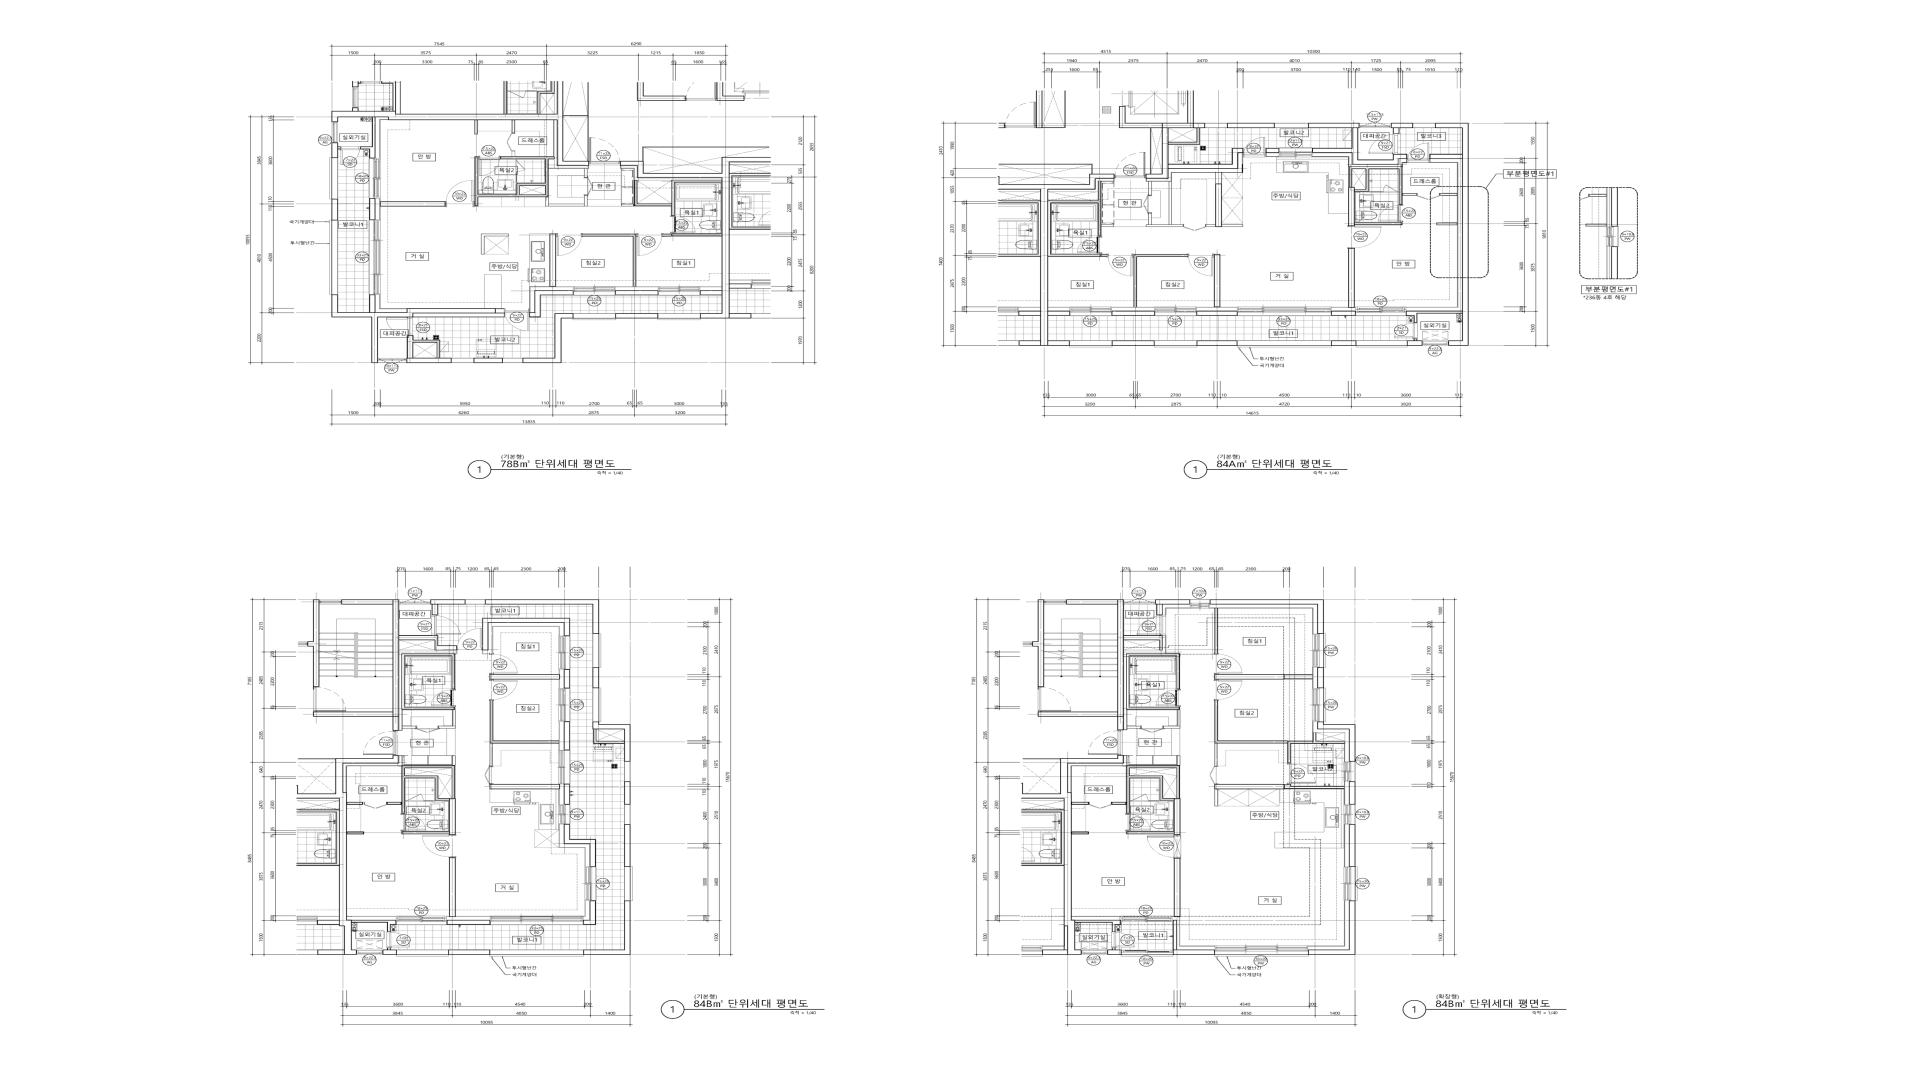door: (1114, 152, 1146, 178), (1088, 731, 1121, 756), (1038, 687, 1071, 712), (363, 731, 396, 756), (313, 687, 345, 712), (589, 137, 620, 164), (1147, 835, 1180, 858), (446, 181, 475, 207), (1349, 225, 1382, 248), (422, 835, 455, 857), (1369, 133, 1399, 154), (1137, 615, 1166, 636), (636, 233, 662, 256), (456, 628, 483, 650), (1288, 764, 1316, 785), (1215, 679, 1242, 700), (489, 679, 517, 700), (431, 616, 460, 636), (556, 233, 582, 256), (504, 309, 529, 331), (1108, 255, 1134, 276), (1188, 255, 1215, 276), (1215, 654, 1242, 674), (489, 654, 517, 674), (1378, 204, 1403, 223), (1126, 814, 1151, 832), (386, 318, 413, 335), (1244, 137, 1266, 157), (1407, 142, 1429, 162), (1077, 236, 1101, 255), (402, 814, 426, 832), (477, 157, 500, 175), (671, 216, 695, 233), (1156, 690, 1180, 707), (431, 690, 455, 707), (1395, 323, 1418, 339), (1112, 932, 1134, 948), (386, 932, 409, 948), (484, 766, 493, 785), (1183, 224, 1207, 231), (1416, 193, 1440, 199), (1141, 727, 1163, 733), (1089, 802, 1112, 808), (364, 802, 386, 808), (1143, 195, 1151, 214), (506, 133, 514, 152), (1209, 766, 1217, 785), (1130, 794, 1149, 802), (405, 794, 423, 802), (417, 727, 438, 733), (584, 178, 592, 195), (1383, 185, 1399, 193), (516, 160, 525, 171)
wall: (331, 82, 589, 166), (313, 600, 456, 731), (620, 157, 729, 319), (1038, 600, 1163, 731), (1406, 123, 1469, 345), (1040, 174, 1114, 345), (1060, 756, 1124, 955), (339, 756, 400, 955), (331, 294, 504, 363), (1120, 107, 1244, 179), (1406, 158, 1462, 311), (1215, 700, 1345, 764), (1146, 153, 1244, 227), (386, 766, 455, 835), (1112, 766, 1180, 835), (489, 700, 559, 766), (400, 650, 456, 731), (1308, 123, 1407, 165), (1124, 636, 1166, 731), (1209, 600, 1324, 634), (485, 600, 599, 634), (475, 157, 554, 206), (1349, 166, 1403, 227), (1211, 604, 1317, 634), (401, 654, 455, 709), (1126, 654, 1180, 709), (1134, 255, 1188, 307), (582, 233, 636, 286), (483, 618, 570, 650), (483, 622, 564, 654), (1308, 901, 1356, 955), (584, 901, 630, 955), (522, 314, 572, 363), (549, 120, 589, 178), (343, 756, 402, 793), (1068, 756, 1127, 793), (1308, 901, 1349, 949), (1317, 721, 1356, 762), (592, 723, 630, 762), (1312, 721, 1349, 762), (620, 166, 721, 181), (1172, 920, 1215, 955), (1172, 916, 1215, 949), (563, 824, 596, 866), (559, 824, 589, 866), (1312, 153, 1407, 166), (406, 335, 451, 363), (529, 290, 574, 318), (529, 286, 574, 313), (1033, 600, 1044, 687), (1048, 179, 1114, 191), (1215, 785, 1345, 790), (481, 233, 509, 255), (313, 600, 319, 687), (430, 600, 465, 616), (376, 294, 406, 313), (1155, 600, 1191, 615), (1215, 674, 1312, 679), (376, 117, 388, 158), (546, 195, 587, 207), (1168, 128, 1197, 142), (1174, 858, 1180, 918), (489, 674, 560, 679), (489, 785, 560, 790), (413, 343, 436, 359), (413, 314, 504, 318), (380, 202, 446, 207), (550, 233, 556, 286), (438, 709, 455, 729), (1163, 709, 1180, 729), (583, 901, 596, 926), (450, 857, 455, 916), (1349, 248, 1354, 307), (1352, 169, 1366, 190), (1163, 604, 1191, 615), (1216, 183, 1222, 227), (624, 824, 630, 866), (1215, 255, 1220, 307), (1349, 824, 1356, 866), (1228, 123, 1275, 128), (1391, 123, 1414, 133), (447, 920, 491, 926), (1112, 311, 1155, 316), (615, 290, 658, 295), (1112, 340, 1154, 345), (616, 314, 658, 319), (1344, 824, 1349, 866), (448, 949, 489, 955), (1196, 311, 1237, 316), (1197, 340, 1237, 345), (347, 916, 396, 920), (1072, 916, 1121, 920), (563, 721, 570, 750), (1215, 608, 1218, 654), (447, 916, 491, 920), (615, 286, 658, 290), (1112, 307, 1155, 311), (1196, 307, 1237, 311), (559, 721, 564, 750), (473, 357, 502, 363), (624, 782, 630, 804), (369, 198, 376, 220), (1349, 782, 1356, 804), (331, 142, 340, 158), (592, 667, 599, 688), (331, 199, 338, 220), (1317, 667, 1324, 688), (563, 785, 570, 804), (583, 901, 589, 920), (1332, 311, 1356, 316), (1332, 340, 1356, 345), (563, 670, 570, 688), (1344, 782, 1349, 804), (1312, 667, 1317, 688), (1407, 339, 1423, 345), (382, 948, 397, 955), (1332, 307, 1356, 311), (376, 198, 380, 220), (1108, 948, 1121, 955), (700, 286, 721, 290), (1048, 307, 1069, 311), (559, 785, 563, 804), (559, 670, 563, 688), (1266, 148, 1279, 153), (1215, 790, 1218, 807), (1150, 128, 1151, 174), (1215, 744, 1217, 766), (1222, 224, 1244, 227), (1266, 153, 1279, 157), (475, 120, 477, 135), (1101, 224, 1114, 227), (512, 120, 514, 133), (452, 756, 455, 766), (1178, 756, 1180, 766), (1207, 224, 1216, 227), (621, 204, 634, 206), (1403, 194, 1416, 195), (1370, 191, 1383, 193), (423, 800, 434, 802), (516, 171, 517, 182), (512, 152, 514, 157), (1149, 800, 1159, 802)
window: (1215, 945, 1308, 956), (1237, 307, 1332, 316), (491, 916, 583, 926), (369, 220, 380, 294), (1237, 340, 1332, 347), (489, 949, 584, 956), (330, 220, 338, 295), (396, 916, 447, 926), (1356, 307, 1406, 316), (1344, 866, 1357, 901), (1312, 634, 1325, 667), (1312, 688, 1325, 721), (369, 158, 380, 198), (584, 866, 596, 901), (658, 286, 700, 295), (1069, 307, 1112, 316), (574, 286, 615, 295), (1155, 307, 1196, 316), (559, 750, 570, 785), (559, 636, 570, 670), (396, 949, 448, 956), (559, 688, 570, 721), (1356, 340, 1407, 347), (330, 158, 338, 199), (592, 688, 601, 723), (624, 866, 633, 901), (1279, 148, 1312, 157), (592, 634, 601, 667), (1154, 340, 1197, 347), (572, 314, 616, 320), (1069, 340, 1112, 347), (658, 314, 700, 320), (1121, 951, 1174, 956), (1121, 916, 1172, 922), (1344, 762, 1356, 782), (1344, 804, 1356, 824), (559, 804, 570, 824), (1275, 123, 1308, 128), (1360, 123, 1391, 128), (1124, 599, 1155, 604), (400, 599, 430, 604), (1191, 600, 1211, 608), (378, 359, 407, 364), (331, 123, 338, 142), (624, 762, 630, 782), (624, 804, 630, 824), (451, 357, 473, 363), (1205, 123, 1228, 128), (1414, 123, 1435, 128), (1081, 951, 1108, 955), (502, 357, 522, 363), (356, 951, 382, 955), (1423, 342, 1448, 345), (1044, 600, 1067, 604), (319, 600, 342, 604), (465, 600, 485, 604)
